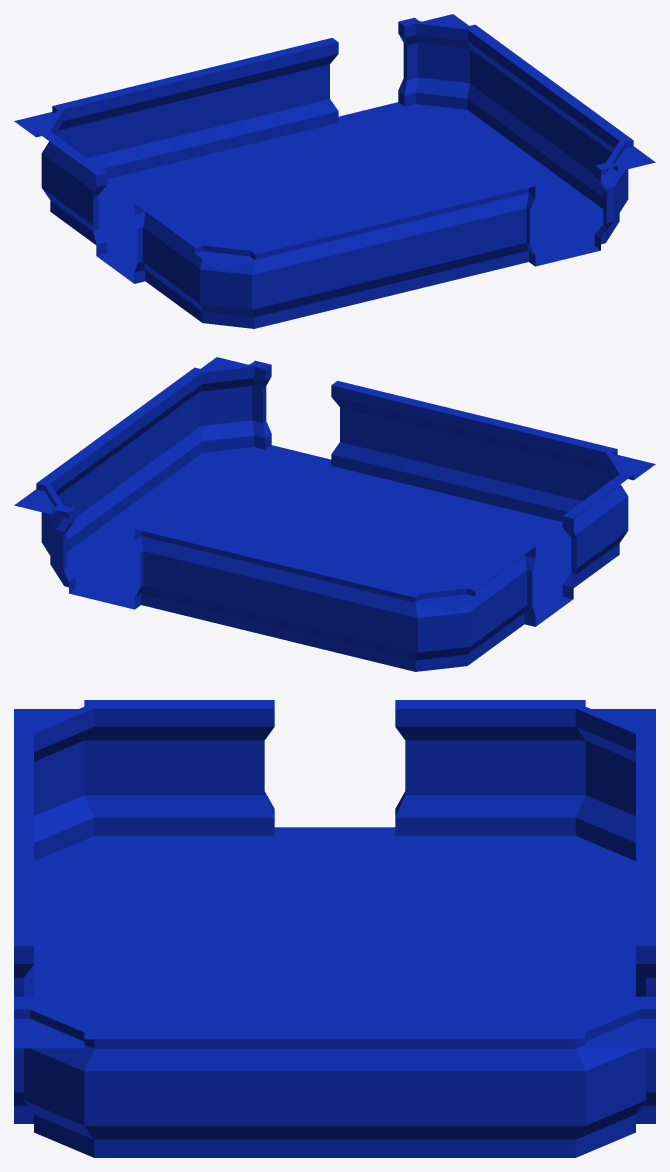
Rendered from 3x4_BigRoom.FBX.
The picture shows the model from 3 angles, top to bottom: view 1: azimuth 30°, elevation 25°; view 2: azimuth 150°, elevation 25°; view 3: azimuth 270°, elevation 25°; orthographic projection. The views are drawn at different scales.
Parts seen in each view (by area): view 1: 3x4_BigRoom; view 2: 3x4_BigRoom; view 3: 3x4_BigRoom.
Boxes of the visible parts, x1,y1,x2,y2 form: 3x4_BigRoom: (14,14,655,328); 3x4_BigRoom: (14,357,655,671); 3x4_BigRoom: (14,700,655,1157).
Size of what is drawn, in the model's own units: 2000 by 350 by 1600.
